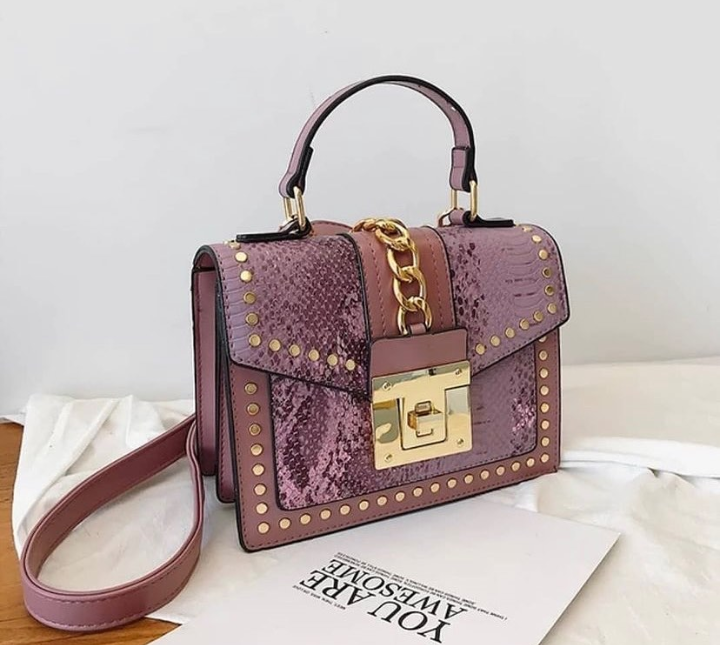cartera: (164, 63, 586, 562)
cuero: (270, 268, 344, 327)
